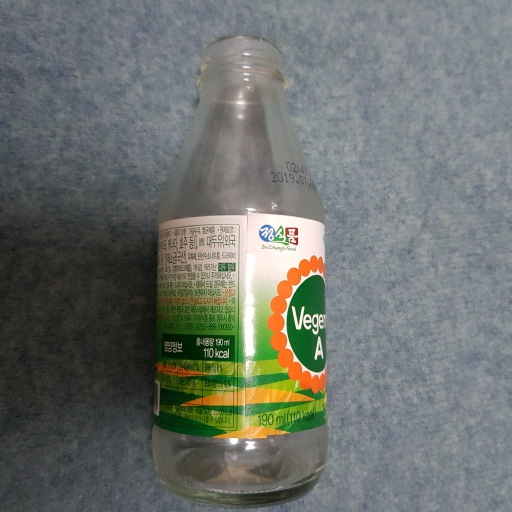Glass_4: (144, 31, 336, 507)
